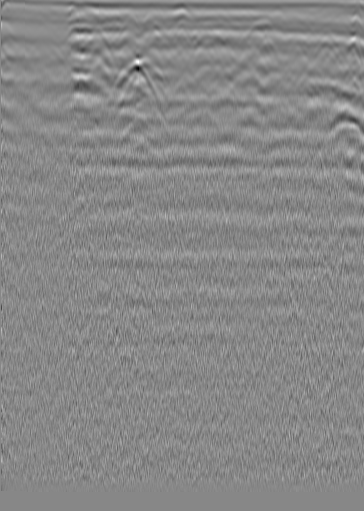가스: (118, 115, 154, 150)
상수: (302, 10, 322, 30)
오수: (34, 19, 54, 39)
우수: (172, 6, 192, 26)
